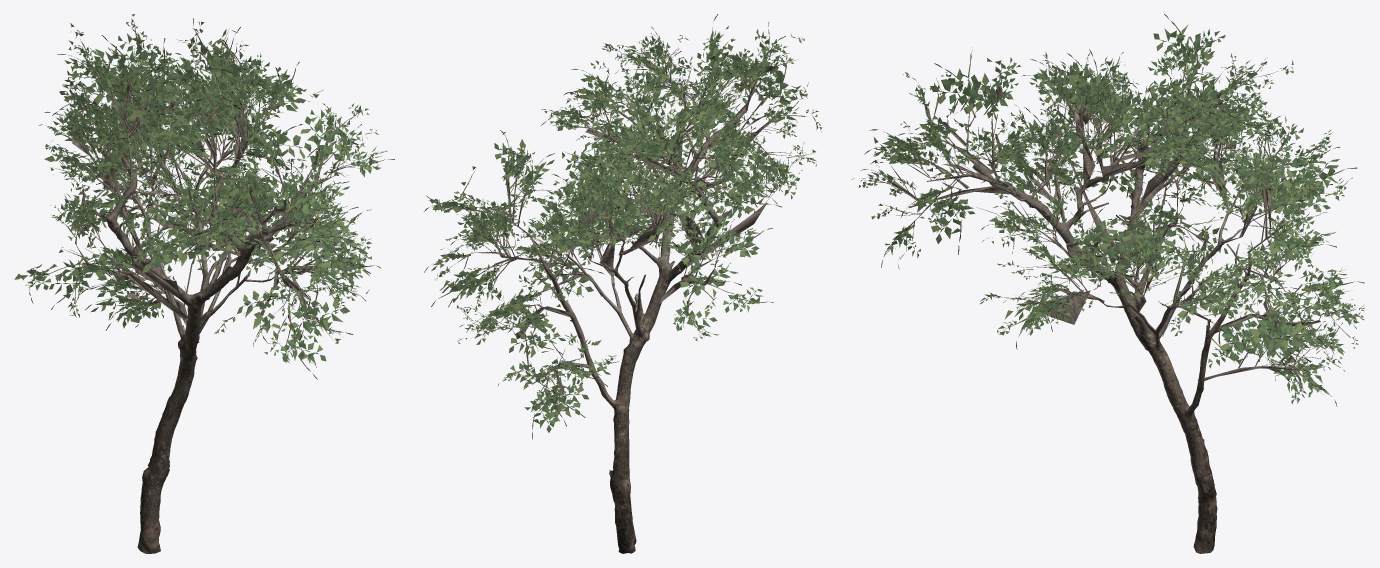
File: natural-broadleaf-quiet.glb
3 renders of one model, left to right at view 1: azimuth 30°, elevation 25°; view 2: azimuth 150°, elevation 25°; view 3: azimuth 270°, elevation 25°, orthographic. The views are drawn at different scales.
Visible parts, largest first — view 1: natural-broadleaf-quiet runtime mesh; view 2: natural-broadleaf-quiet runtime mesh; view 3: natural-broadleaf-quiet runtime mesh.
Part boxes in pixels (<box>): natural-broadleaf-quiet runtime mesh: <box>14,14,394,553</box>; natural-broadleaf-quiet runtime mesh: <box>423,14,822,553</box>; natural-broadleaf-quiet runtime mesh: <box>851,14,1364,553</box>.
Size of the model in its own units: 3.06 by 4.86 by 4.53.
Materials: 3 (3 with a texture image).
